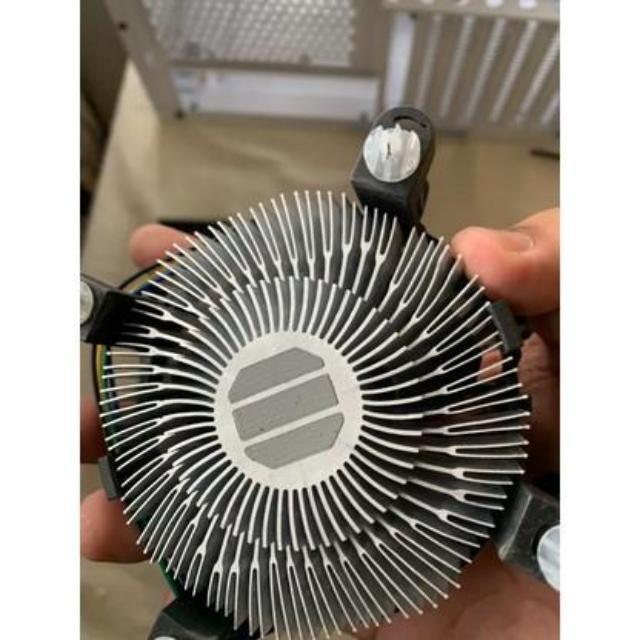CPU_Fan: (85, 184, 540, 638)
